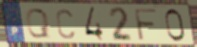0: (164, 7, 187, 42)
2: (108, 6, 134, 44)
4: (82, 6, 106, 43)
C: (55, 7, 77, 40)
F: (133, 7, 159, 42)
Q: (24, 7, 52, 40)
